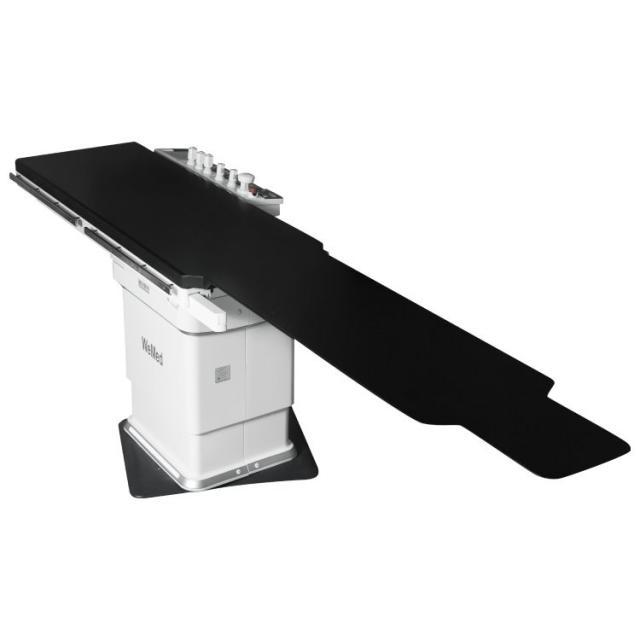bed: (8, 139, 630, 499)
